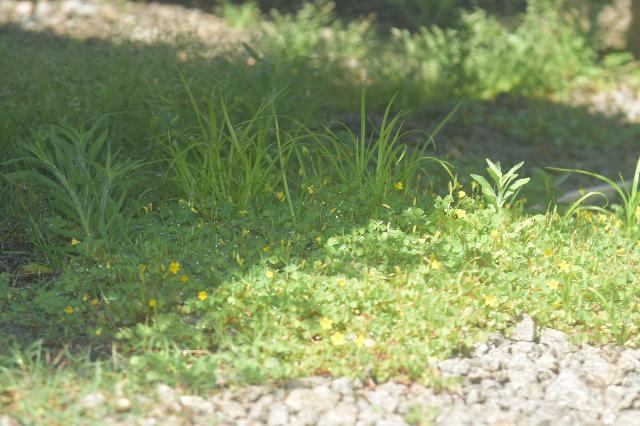MalezaMontesDelPlata: (248, 237, 409, 382), (146, 83, 300, 234), (10, 111, 138, 285), (139, 235, 247, 386), (298, 100, 404, 238), (546, 202, 639, 342), (409, 251, 496, 382), (460, 156, 538, 275)
